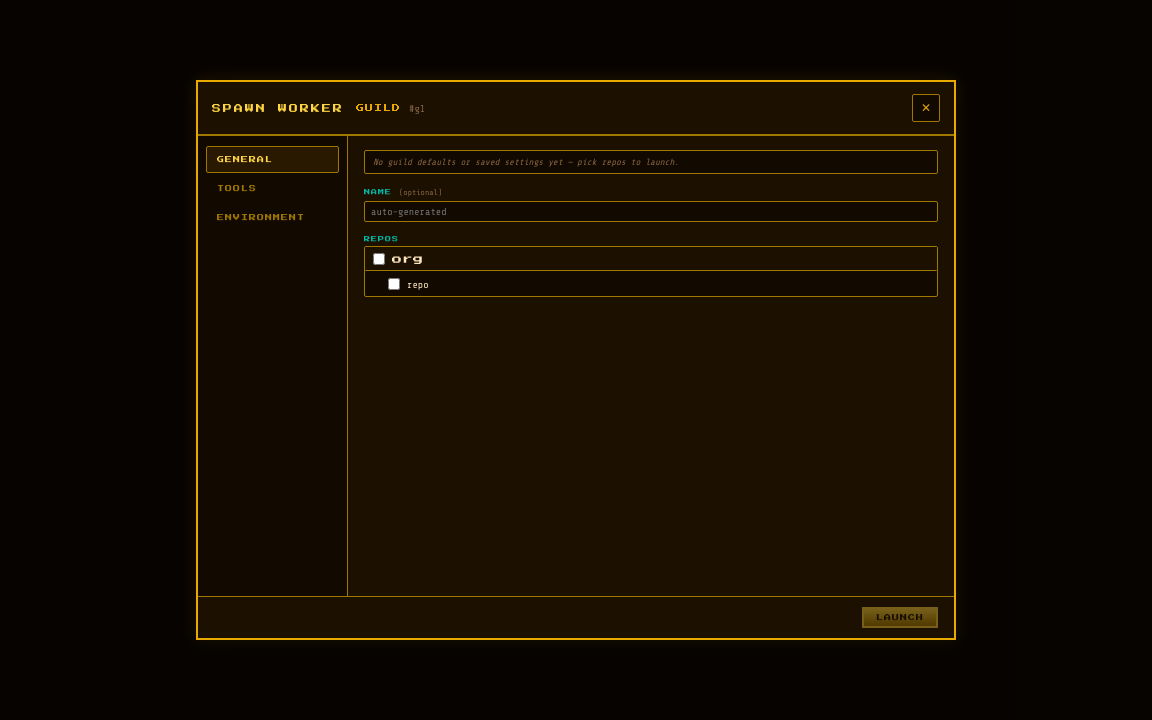
SpawnWorkerForm credentials › shows an empty-state message when the guild has no credentials
Click the button with class "settings-tab" showing "Environment" at (272, 218), box left=206, top=204, right=339, bottom=231
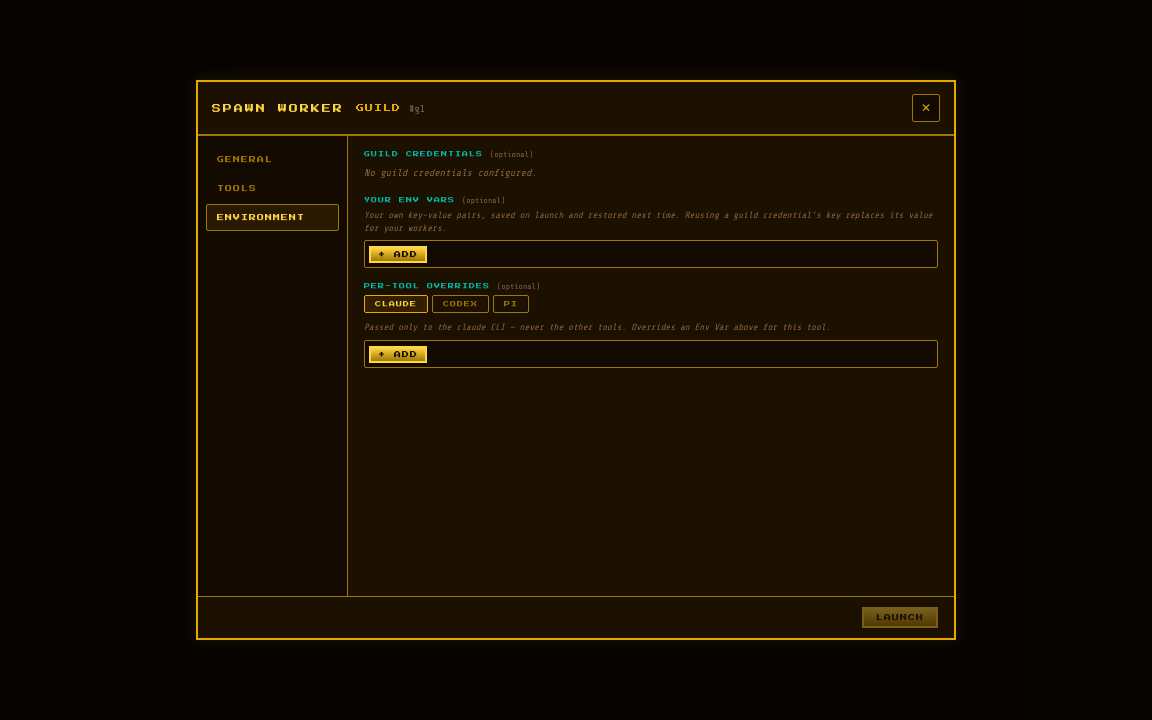
Check: the text "No guild credentials configured" is shown, box left=364, top=167, right=537, bottom=178
